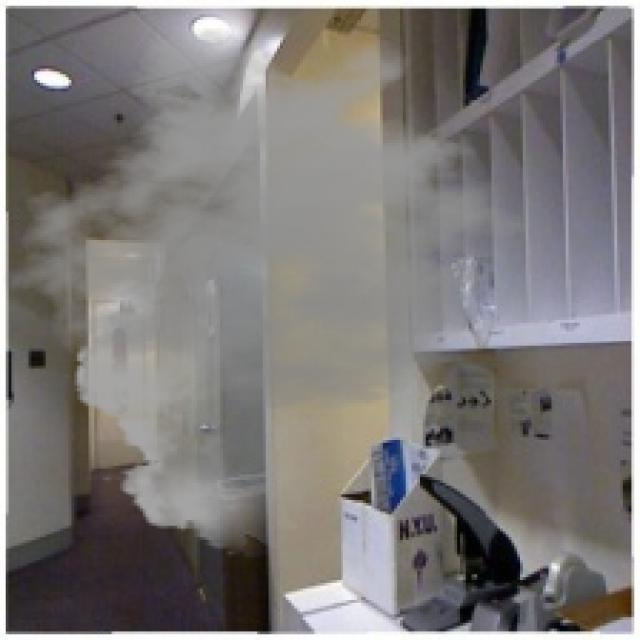smoke: (3, 26, 563, 557)
